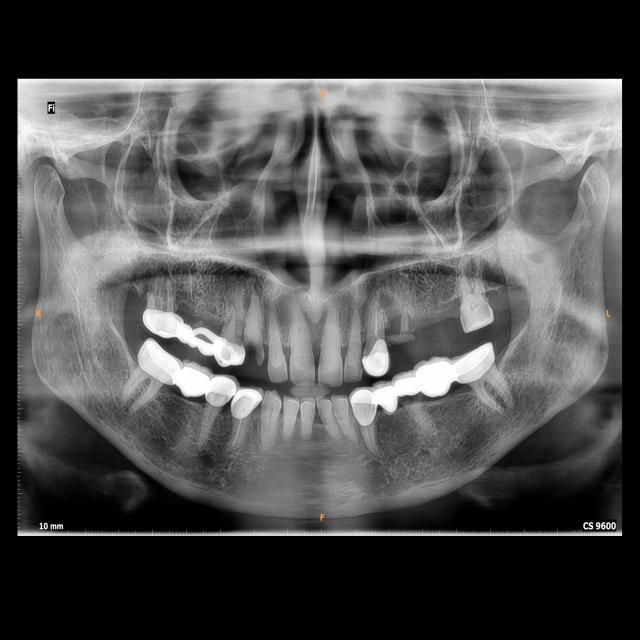dentin-curugu: (245, 337, 266, 365)
dolgu: (456, 298, 494, 333)
kanal-tedavisi: (369, 298, 385, 338), (231, 420, 248, 450)
kaplama: (134, 336, 180, 384), (454, 339, 495, 381), (140, 310, 182, 338), (211, 337, 248, 368), (227, 386, 260, 418), (361, 339, 389, 375), (351, 388, 380, 422), (206, 374, 235, 406)
kopru: (371, 348, 472, 423), (174, 303, 224, 357), (168, 358, 210, 406)
